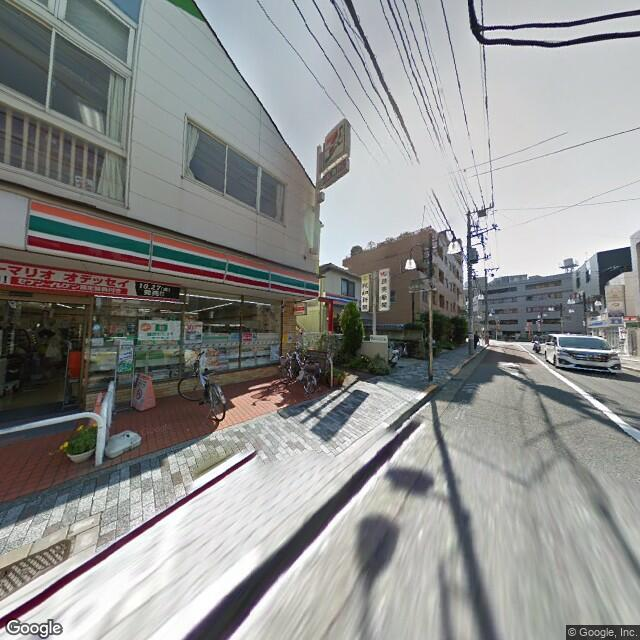7-eleven: (25, 204, 317, 304), (319, 118, 351, 165)
